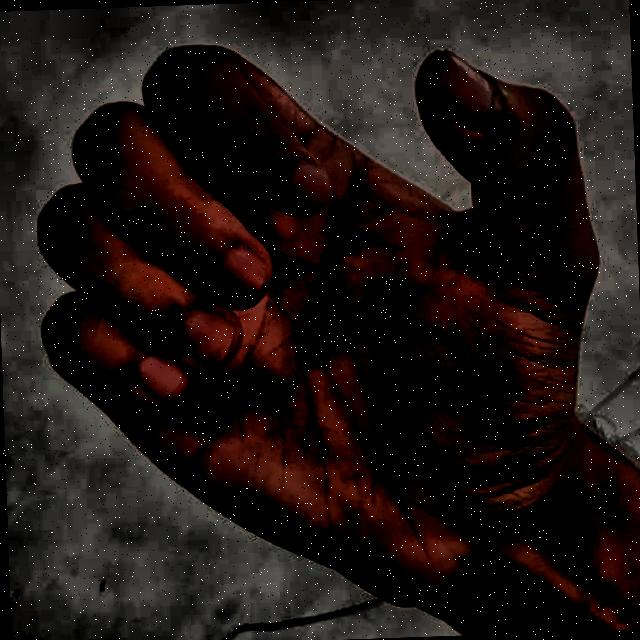Dho: (15, 22, 625, 631)
